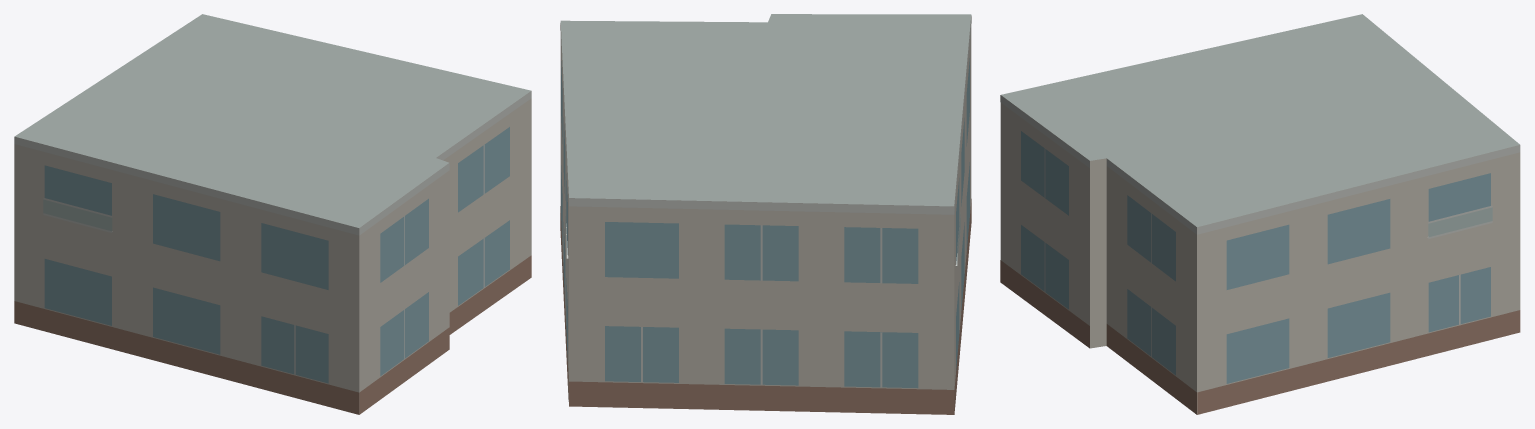
The model's file is survey-upis-32646444.glb.
3 views of the same model, side by side, from view 1: azimuth 30°, elevation 25°; view 2: azimuth 150°, elevation 25°; view 3: azimuth 270°, elevation 25° (orthographic). The views are drawn at different scales.
Parts seen in each view (by area): view 1: survey-upis-32646444.tmp; view 2: survey-upis-32646444.tmp; view 3: survey-upis-32646444.tmp.
Boxes of the visible parts, left/top/right/bottom form: survey-upis-32646444.tmp: left=14, top=14, right=531, bottom=414; survey-upis-32646444.tmp: left=560, top=14, right=971, bottom=414; survey-upis-32646444.tmp: left=1000, top=14, right=1520, bottom=414.
Size of the model in its own units: 14.88 by 6.1 by 15.33.
